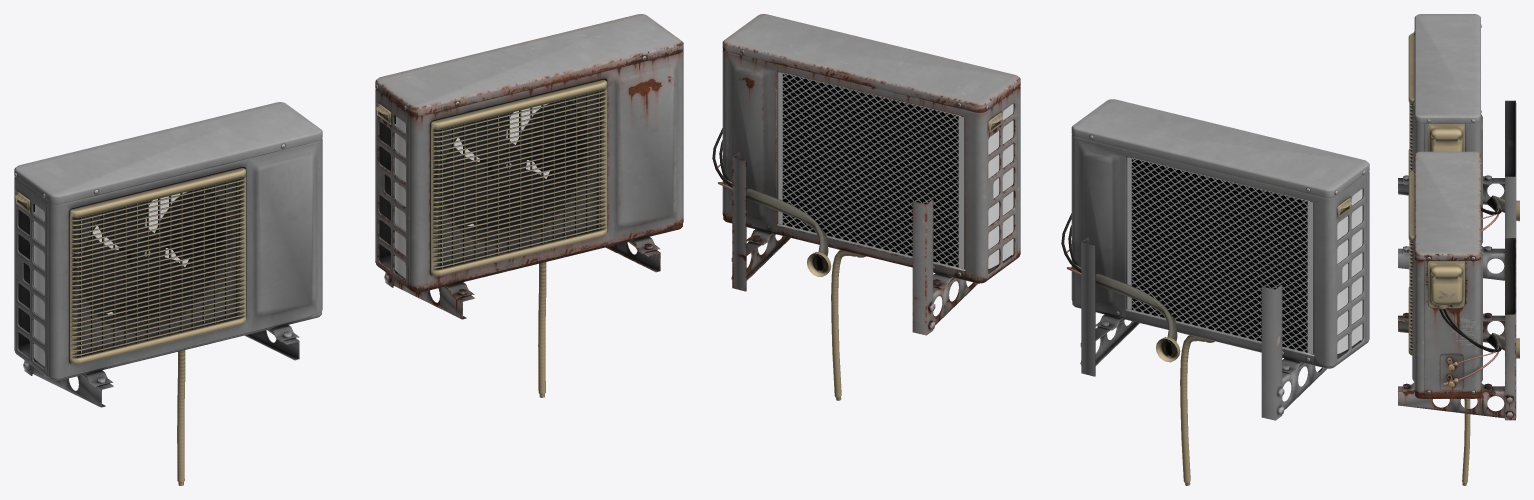
File: exterior_aircon_unit_1k.glb
3 renders of one model, left to right at view 1: azimuth 30°, elevation 25°; view 2: azimuth 150°, elevation 25°; view 3: azimuth 270°, elevation 25°, orthographic. The views are drawn at different scales.
Parts seen in each view (by area): view 1: exterior_aircon_unit, exterior_aircon_unit_rusted; view 2: exterior_aircon_unit, exterior_aircon_unit_rusted; view 3: exterior_aircon_unit_rusted, exterior_aircon_unit.
Part boxes in pixels (bbox=[...]): exterior_aircon_unit: bbox=[14, 102, 322, 485]; exterior_aircon_unit_rusted: bbox=[375, 14, 683, 397]; exterior_aircon_unit: bbox=[1061, 99, 1369, 485]; exterior_aircon_unit_rusted: bbox=[712, 14, 1020, 400]; exterior_aircon_unit_rusted: bbox=[1398, 151, 1519, 485]; exterior_aircon_unit: bbox=[1398, 14, 1519, 280].
Size of the model in its own units: 1.8 by 0.9279 by 0.3741.
Materials: 4 (4 with a texture image).
